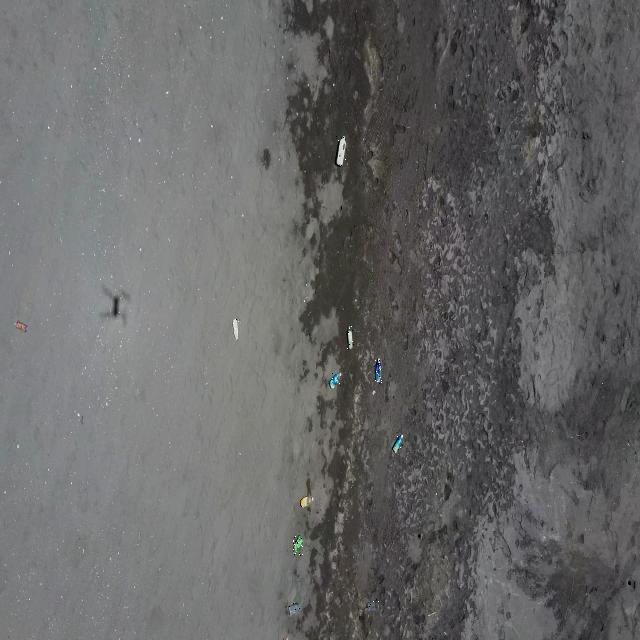plastic-bottle: (336, 135, 347, 167), (329, 372, 342, 389), (293, 536, 303, 556), (375, 357, 382, 384), (393, 435, 403, 453), (300, 496, 314, 508), (347, 326, 354, 350), (232, 318, 239, 340)
takeaway-cup: (288, 603, 300, 616), (366, 599, 378, 611)
